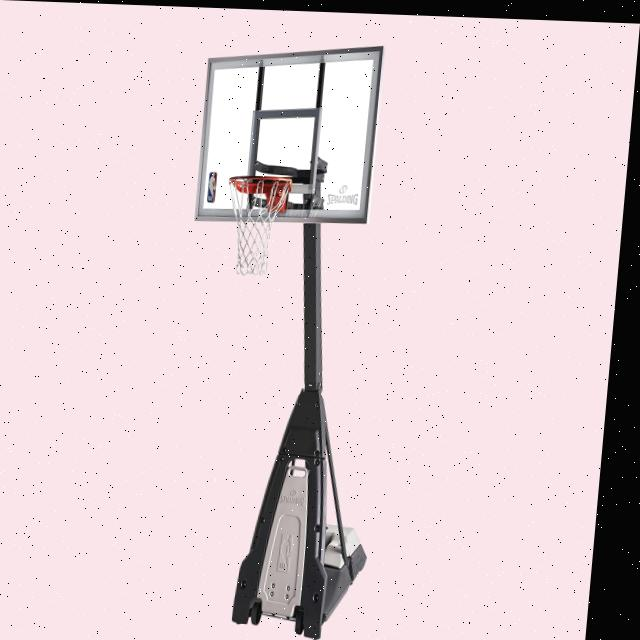hoop: (221, 175, 293, 277)
